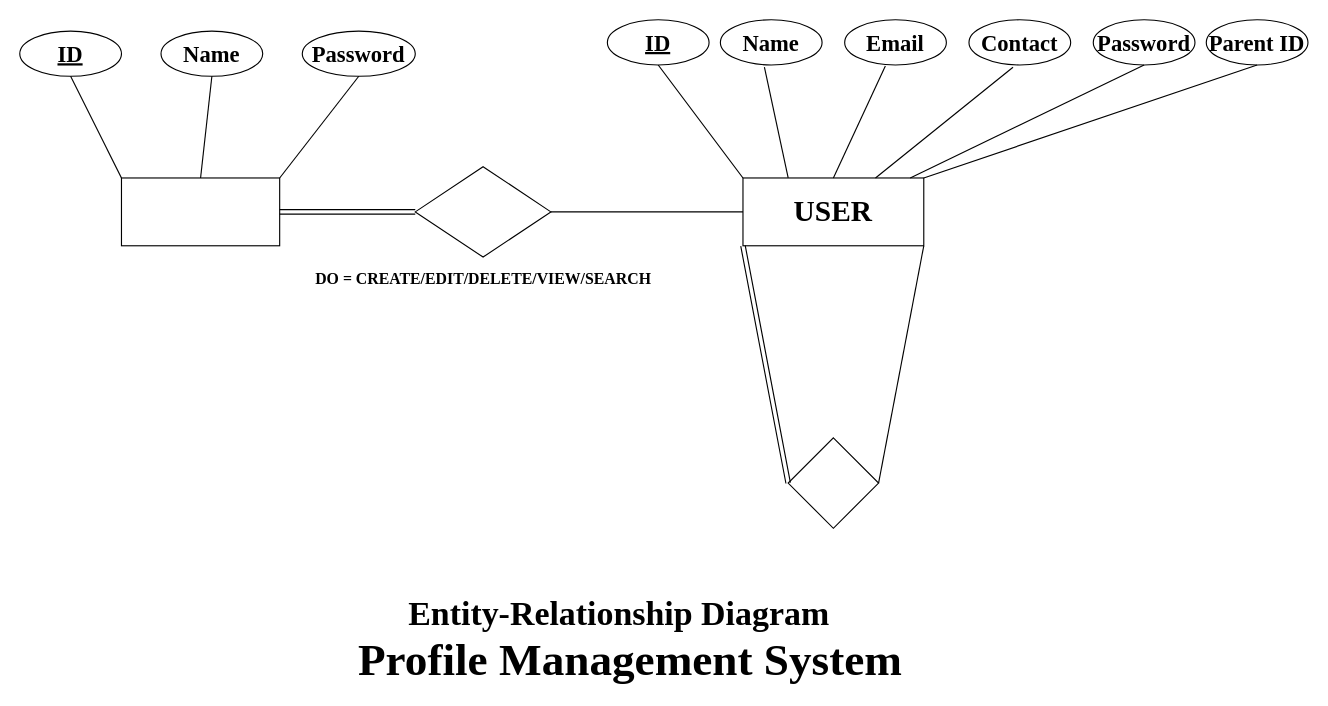
Some shapes in this 1328 by 706 pixel diagram are drawn without their labels. Here are the shapes that lost their labels. From the top down, the centre of each, then its label:
At pixel 200 211: "ADMIN".
At pixel 482 211: "CAN DO".
At pixel 833 482: "Can Have".
